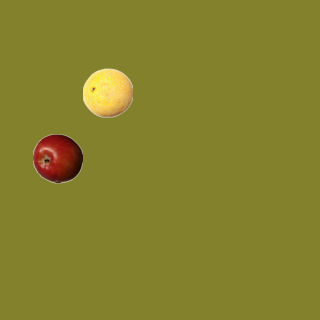Apple Braeburn: (32, 133, 82, 183)
Cantaloupe 1: (82, 67, 132, 117)
